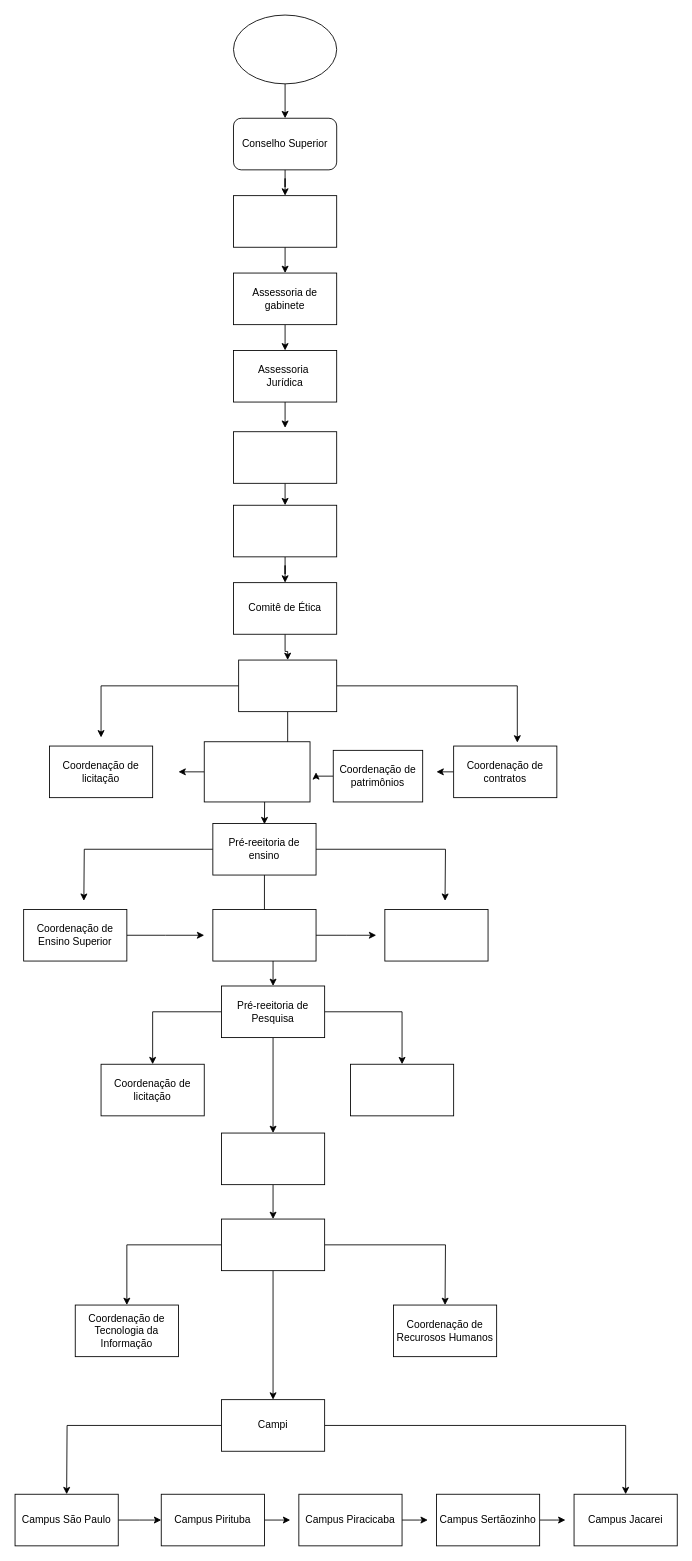
Image size: 692x1561. Some labels were removed from this diagram. Here are the shapes that lost their labels. From the top down, the centre of each, then its label:
the point at 285,49: Organograma IFSP
the point at 285,221: Diretoria
the point at 285,457: Ouvidoria
the point at 285,530: Auditoria interna
the point at 287,685: Pró-reeitoria de administração
the point at 256,771: Coordenação de Compras
the point at 264,935: Coordenação de Ensino Médio
the point at 436,935: Coordenação de registros acadêmicos
the point at 273,1158: Pró-reeitoria de Extensão
the point at 273,1244: Pró-reeitoria de Desenvolvimento Institucional
